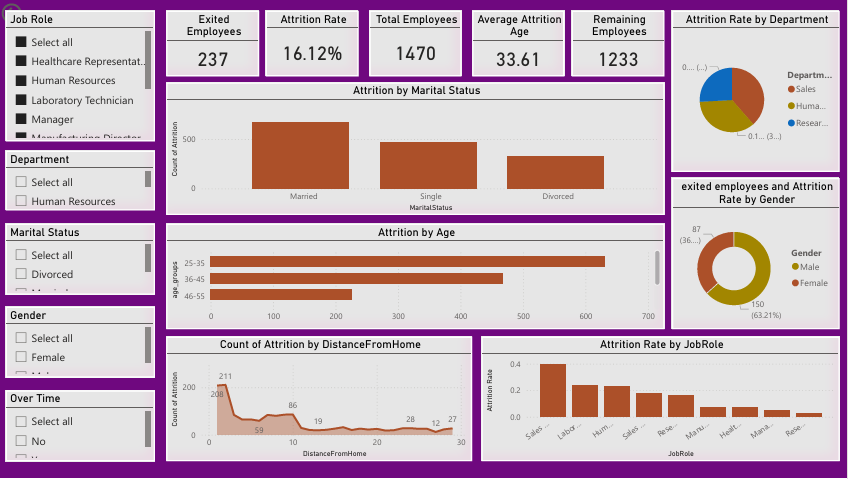

Layout of this report page (visuals, bound fields, positions):
{"tool":"powerbi","page":{"name":"Page 1","canvas":[1280,720],"ordinal":0},"visuals":[{"type":"card","title":"Total Employees","fields":{"Values":["datab employee_view.total count"]},"box":[558.5,15.5,139.6,99.3],"z":0},{"type":"clusteredBarChart","title":" Attrition by Age ","fields":{"Y":["CountNonNull(datab employee_view.Attrition)"],"Category":["datab employee_view.age_groups"]},"box":[252.9,336.7,750.9,159.8],"z":1000},{"type":"clusteredColumnChart","title":" Attrition by Marital Status","fields":{"Y":["CountNonNull(datab employee_view.Attrition)"],"Category":["datab employee_view.MaritalStatus"]},"box":[252.9,124.1,750.9,200.1],"z":2000},{"type":"actionButton","box":[0,0,100,40],"z":3000},{"type":"card","title":"Remaining Employees","fields":{"Values":["datab employee_view.Remaining employees"]},"box":[864.2,15.5,139.6,99.3],"z":4000},{"type":"card","title":"Exited Employees","fields":{"Values":["datab employee_view.exited employees"]},"box":[252.9,15.5,139.6,99.3],"z":5000},{"type":"card","title":"Attrition Rate","fields":{"Values":["datab employee_view.Attrition Rate"]},"box":[403.4,15.5,139.6,99.3],"z":6000},{"type":"card","title":"Average Attrition Age","fields":{"Values":["datab employee_view.Average Attrition Age"]},"box":[713.7,15.5,139.6,99.3],"z":7000},{"type":"lineChart","fields":{"Y":["CountNonNull(datab employee_view.Attrition)"],"Category":["datab employee_view.DistanceFromHome"]},"box":[252.9,507.3,460.8,187.7],"z":8000},{"type":"donutChart","fields":{"Category":["datab employee_view.Gender"],"Y":["datab employee_view.exited employees","datab employee_view.Attrition Rate"]},"box":[1014.7,268.4,252.9,228.1],"z":9000},{"type":"pieChart","fields":{"Category":["datab employee_view.Department"],"Y":["datab employee_view.Attrition Rate"]},"box":[1014.7,15.5,252.9,243.6],"z":10000},{"type":"clusteredColumnChart","fields":{"Y":["datab employee_view.Attrition Rate"],"Category":["datab employee_view.JobRole"]},"box":[727.7,507.3,539.9,187.7],"z":11000},{"type":"slicer","title":"Department","fields":{"Values":["datab employee_view.Department"]},"box":[10.9,226.5,225,90],"z":12000},{"type":"slicer","title":"Gender","fields":{"Values":["datab employee_view.Gender"]},"box":[10.9,462.4,225,107.1],"z":13000},{"type":"slicer","title":"Job Role","fields":{"Values":["datab employee_view.JobRole"]},"box":[10.9,15.5,225,197],"z":14000},{"type":"slicer","title":"Marital Status","fields":{"Values":["datab employee_view.MaritalStatus"]},"box":[10.9,336.7,225,107.1],"z":15000},{"type":"slicer","title":"Over Time","fields":{"Values":["datab employee_view.OverTime"]},"box":[10.9,588,225,107.1],"z":16000}]}

Visuals, with their boxes in screenshot pixels (x1, y1, x2, y2), scaled from the page's 1280x720 canvas onto the 848x479 screenshot:
"Total Employees" card: Rect(370, 10, 462, 76)
" Attrition by Age " clusteredBarChart: Rect(168, 224, 665, 330)
" Attrition by Marital Status" clusteredColumnChart: Rect(168, 83, 665, 216)
actionButton: Rect(0, 0, 66, 27)
"Remaining Employees" card: Rect(573, 10, 665, 76)
"Exited Employees" card: Rect(168, 10, 260, 76)
"Attrition Rate" card: Rect(267, 10, 360, 76)
"Average Attrition Age" card: Rect(473, 10, 565, 76)
lineChart - CountNonNull(datab employee_view.Attrition) x datab employee_view.DistanceFromHome: Rect(168, 337, 473, 462)
donutChart - datab employee_view.Gender x datab employee_view.exited employees: Rect(672, 179, 840, 330)
pieChart - datab employee_view.Department x datab employee_view.Attrition Rate: Rect(672, 10, 840, 172)
clusteredColumnChart - datab employee_view.Attrition Rate x datab employee_view.JobRole: Rect(482, 337, 840, 462)
"Department" slicer: Rect(7, 151, 156, 211)
"Gender" slicer: Rect(7, 308, 156, 379)
"Job Role" slicer: Rect(7, 10, 156, 141)
"Marital Status" slicer: Rect(7, 224, 156, 295)
"Over Time" slicer: Rect(7, 391, 156, 462)
